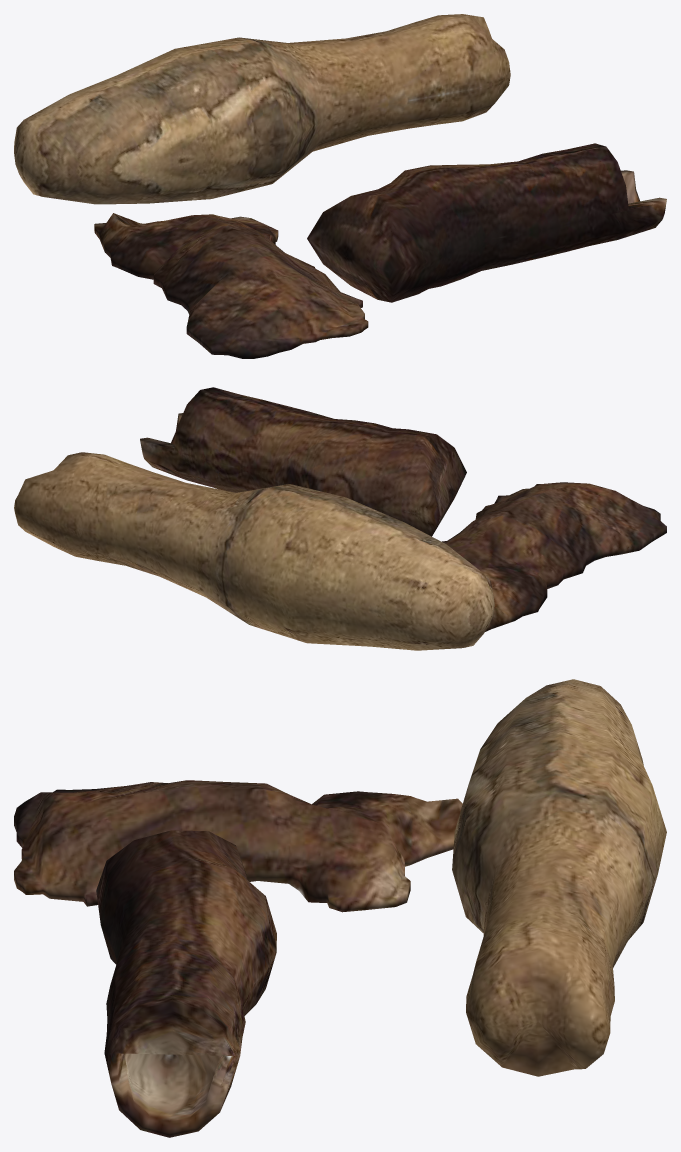
Rendered from digupi.FBX.
3 views of the same model, one above another, from view 1: azimuth 30°, elevation 25°; view 2: azimuth 150°, elevation 25°; view 3: azimuth 270°, elevation 25° (orthographic). The views are drawn at different scales.
Parts seen in each view (by area): view 1: Cylinder002, Cylinder001, Line001; view 2: Cylinder002, Cylinder001, Line001; view 3: Cylinder002, Cylinder001, Line001.
Boxes of the visible parts, x1=… form: Cylinder002: x1=14, y1=14, x2=510, y2=204; Cylinder001: x1=307, y1=143, x2=666, y2=302; Line001: x1=94, y1=213, x2=368, y2=358; Cylinder002: x1=14, y1=452, x2=494, y2=650; Cylinder001: x1=140, y1=387, x2=466, y2=536; Line001: x1=442, y1=482, x2=666, y2=631; Cylinder002: x1=452, y1=679, x2=666, y2=1076; Cylinder001: x1=96, y1=830, x2=276, y2=1137; Line001: x1=14, y1=780, x2=462, y2=912.
Size of the model in its own units: 49.09 by 14.89 by 41.44.
Materials: 1 (1 with a texture image).
